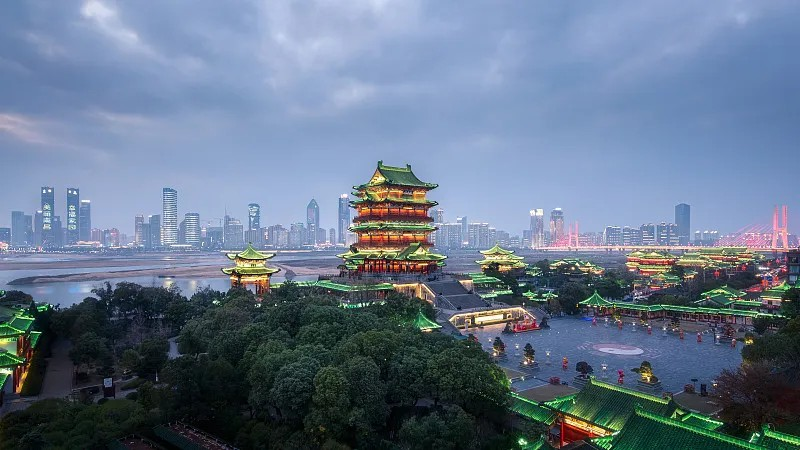Teng: (335, 160, 448, 274)
